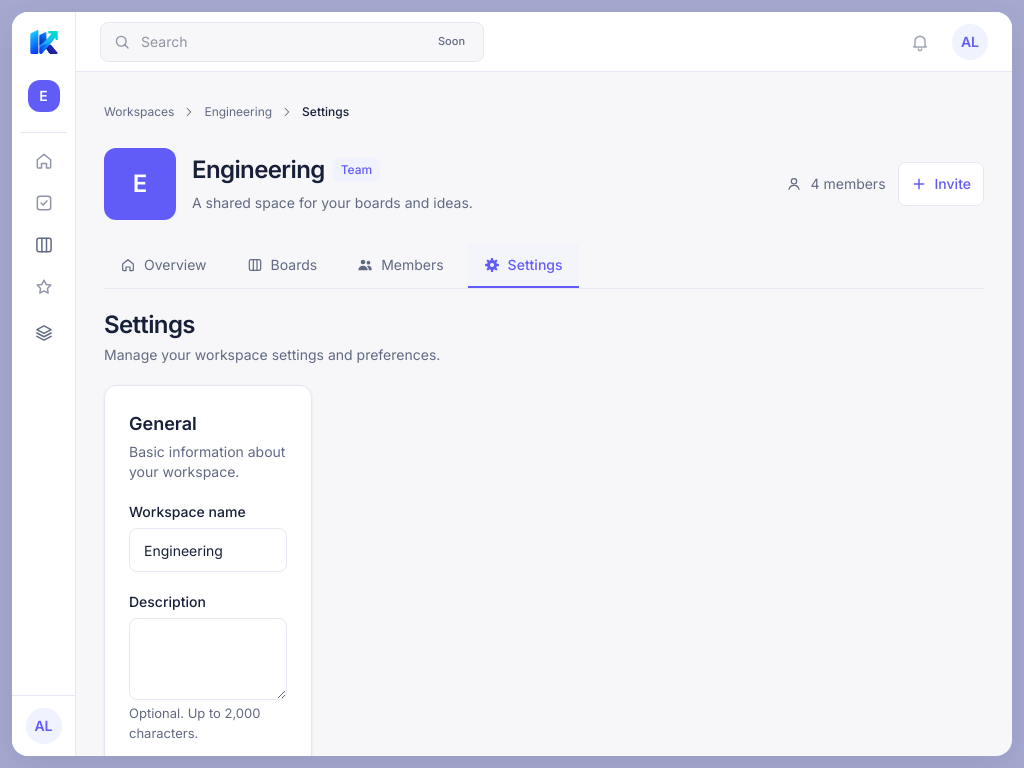
Scenario: Workspace Settings responsive draft — general › keeps the same dirty form through repeated breakpoint/rotation changes starting at 767px
Replace the text in the field labelled "Workspace name" with "Private draft" at [208, 550], box top-left (129, 528), bottom-right (287, 572)
(page scrolled)
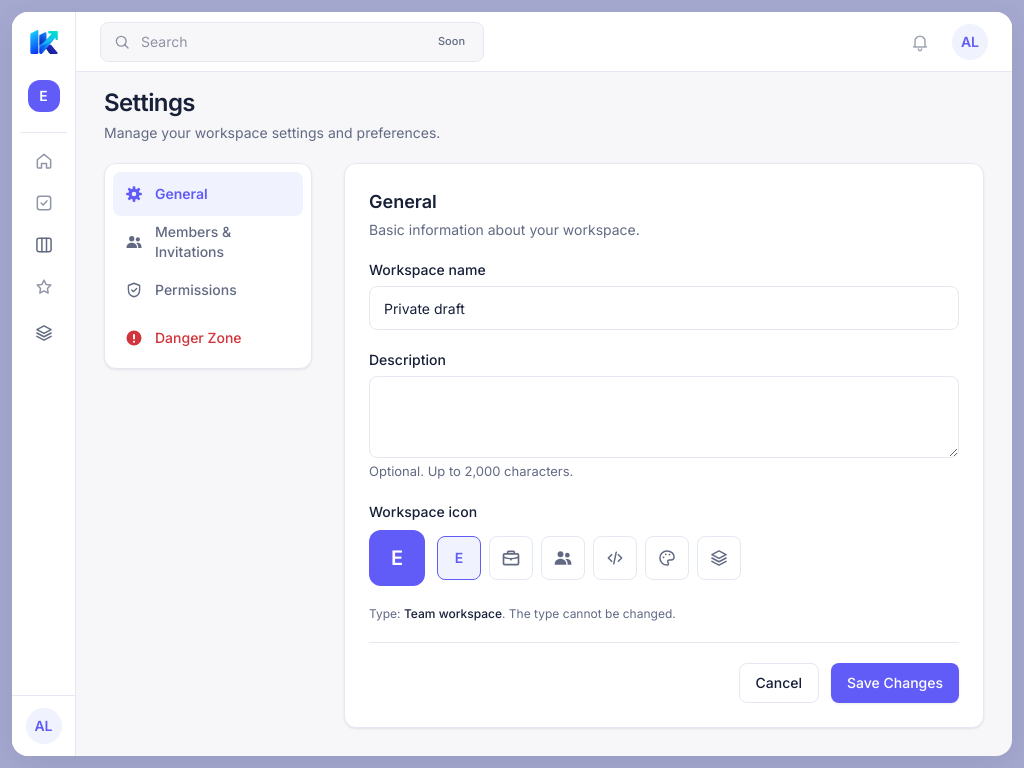
Now the button "Save Changes" is enabled, box top-left (831, 662), bottom-right (959, 702)
Click the button "Cancel" at [779, 682], box top-left (738, 662), bottom-right (819, 702)
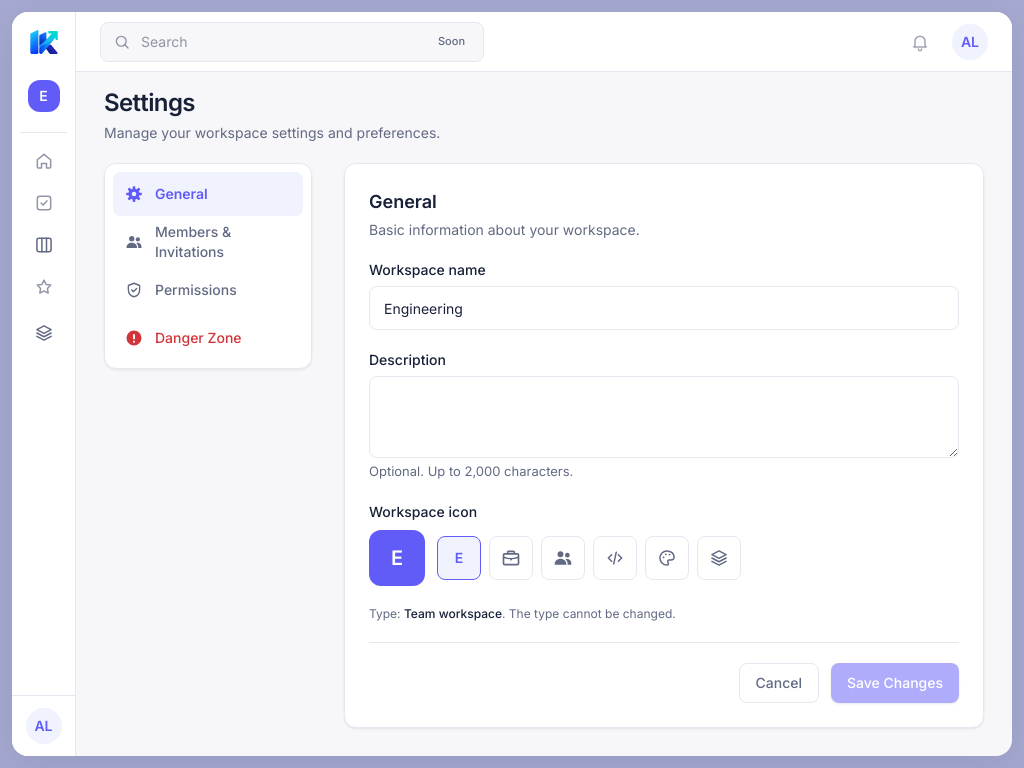
Now the field labelled "Workspace name" holds "Engineering", box top-left (369, 286), bottom-right (959, 330)
